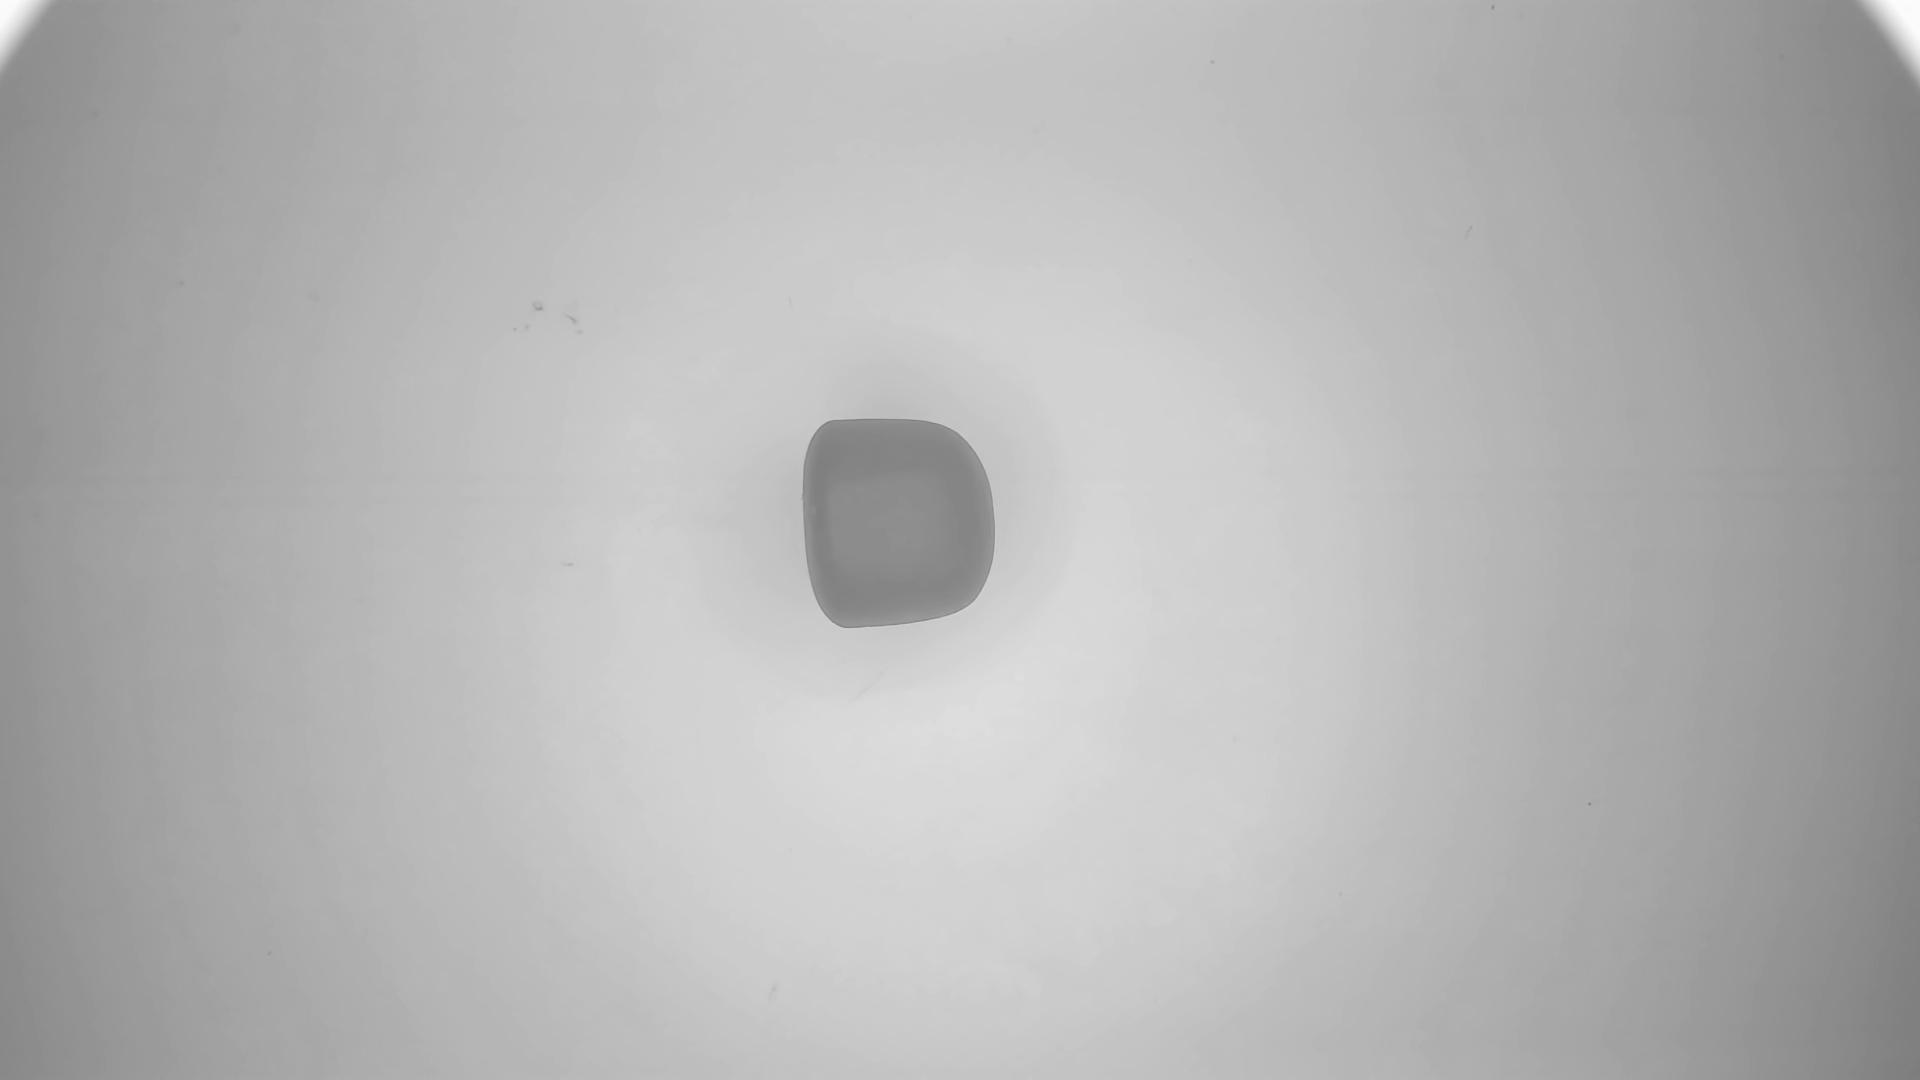normal: (800, 418, 1002, 633)
